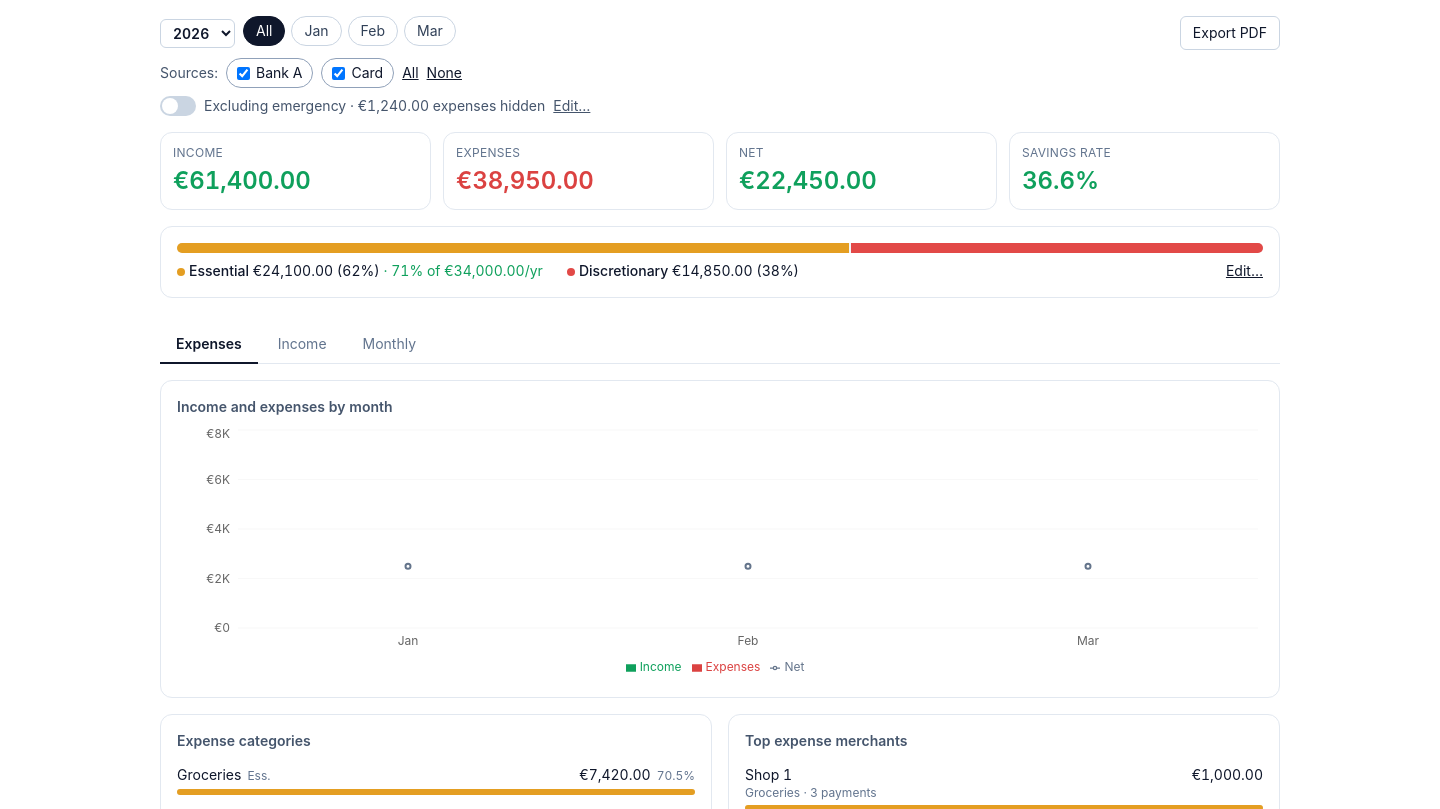
Test: hidden-tag editor › keeps the sheet open with the Worker's message when the save fails
The width and height of the screenshot is (1440, 809).
Click the button with aria-label "edit hidden tags".
click(572, 106)  # box [553,96,590,116]
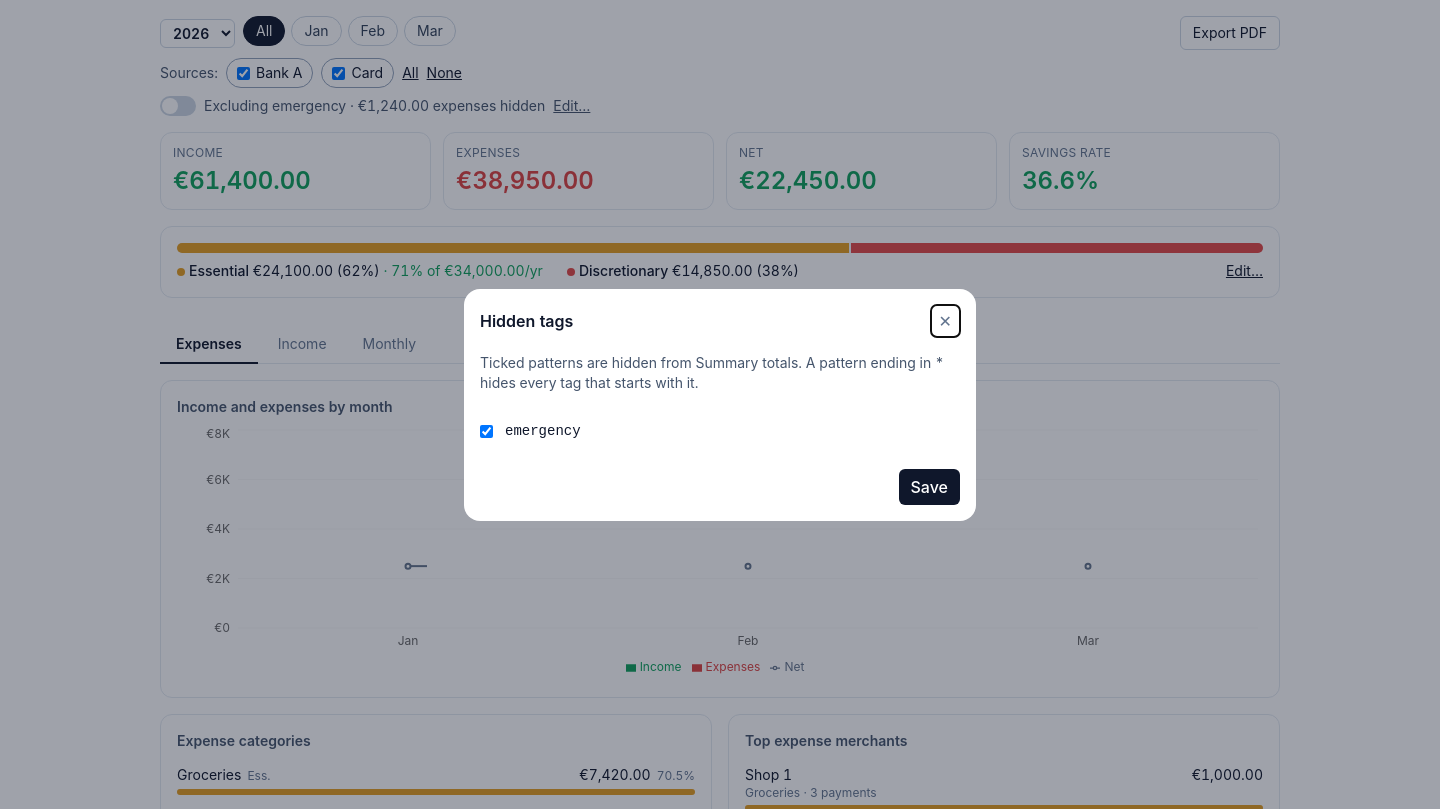
Expected: the checkbox labelled "emergency" is shown, [480,424,493,438]
Click the button "Save".
click(929, 487)  # box [898,469,960,505]
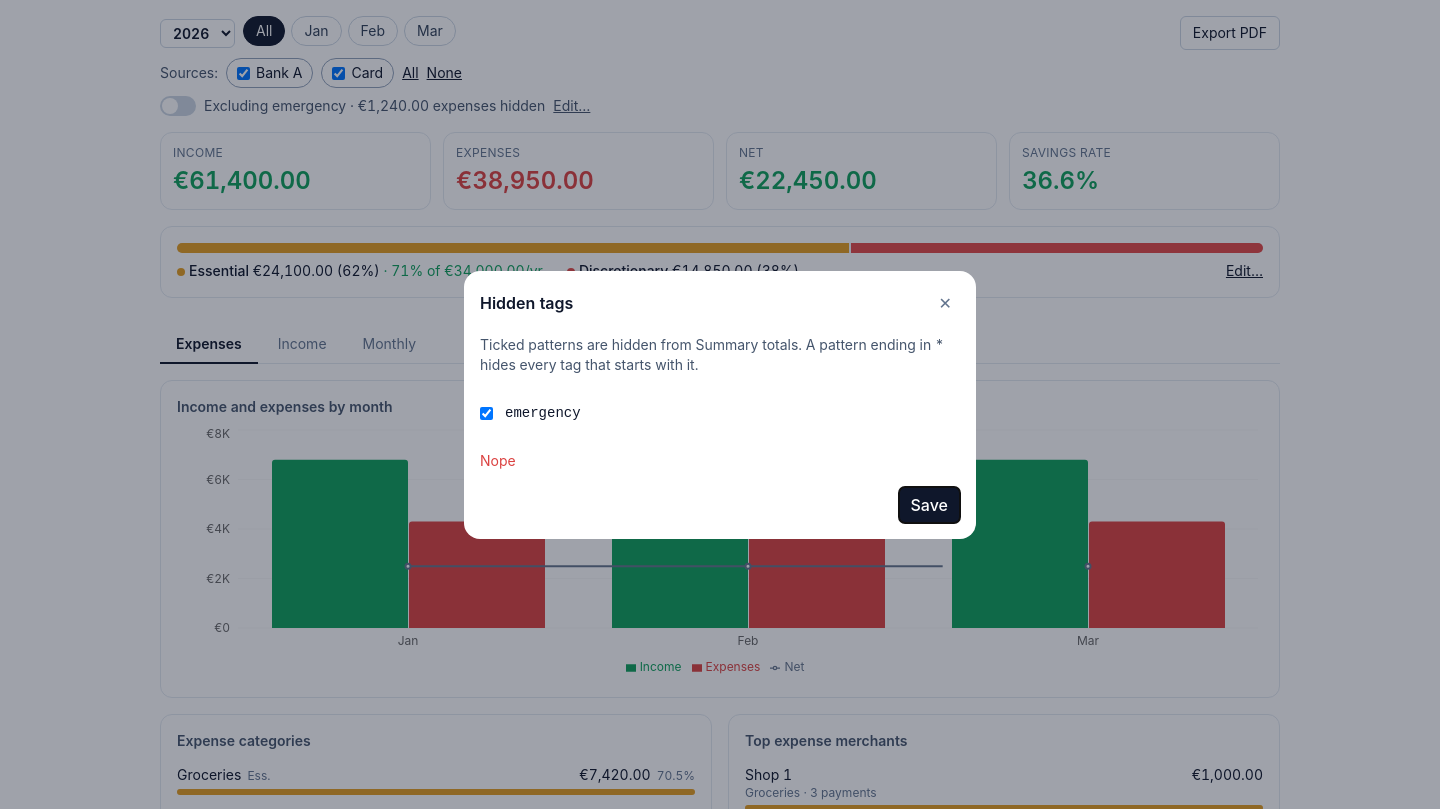
Expected: the message reads "Nope", [480,452,516,469]
